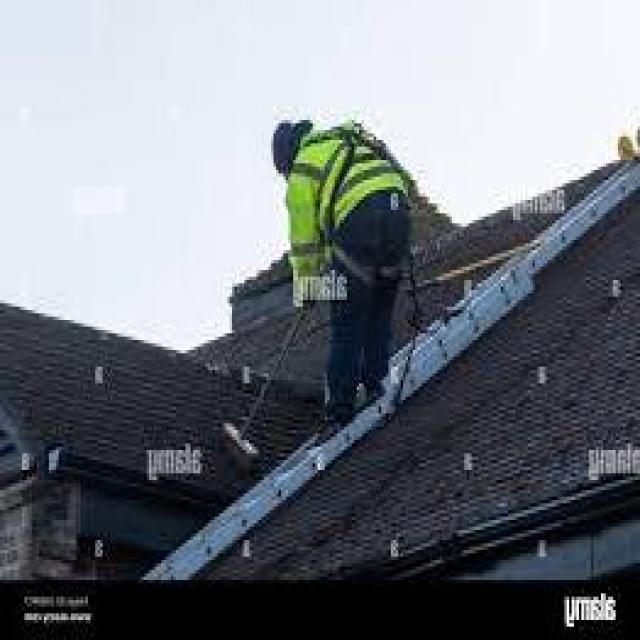Reflective-Jacket: (268, 117, 428, 280)
